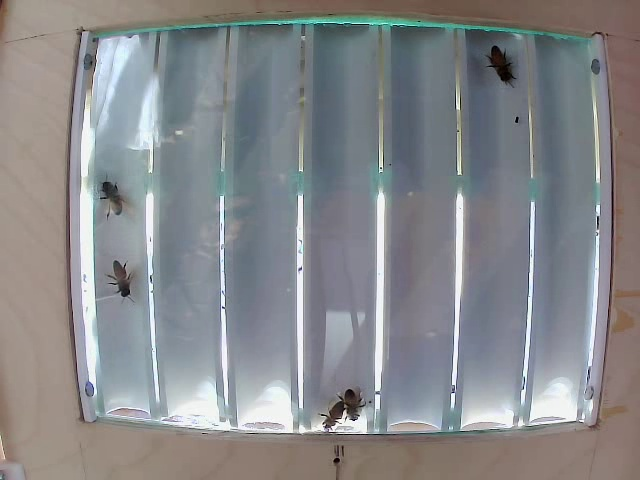bee: (477, 34, 523, 88), (106, 174, 142, 229), (100, 256, 141, 304), (321, 379, 355, 424)
